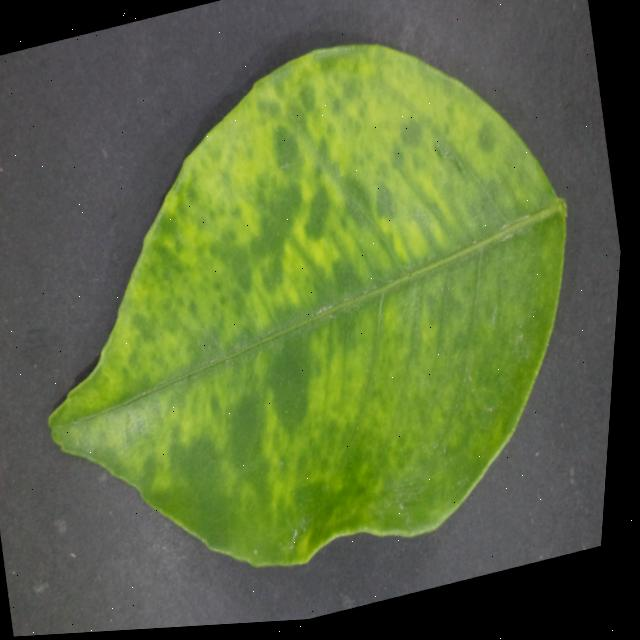greening: (49, 45, 566, 566)
